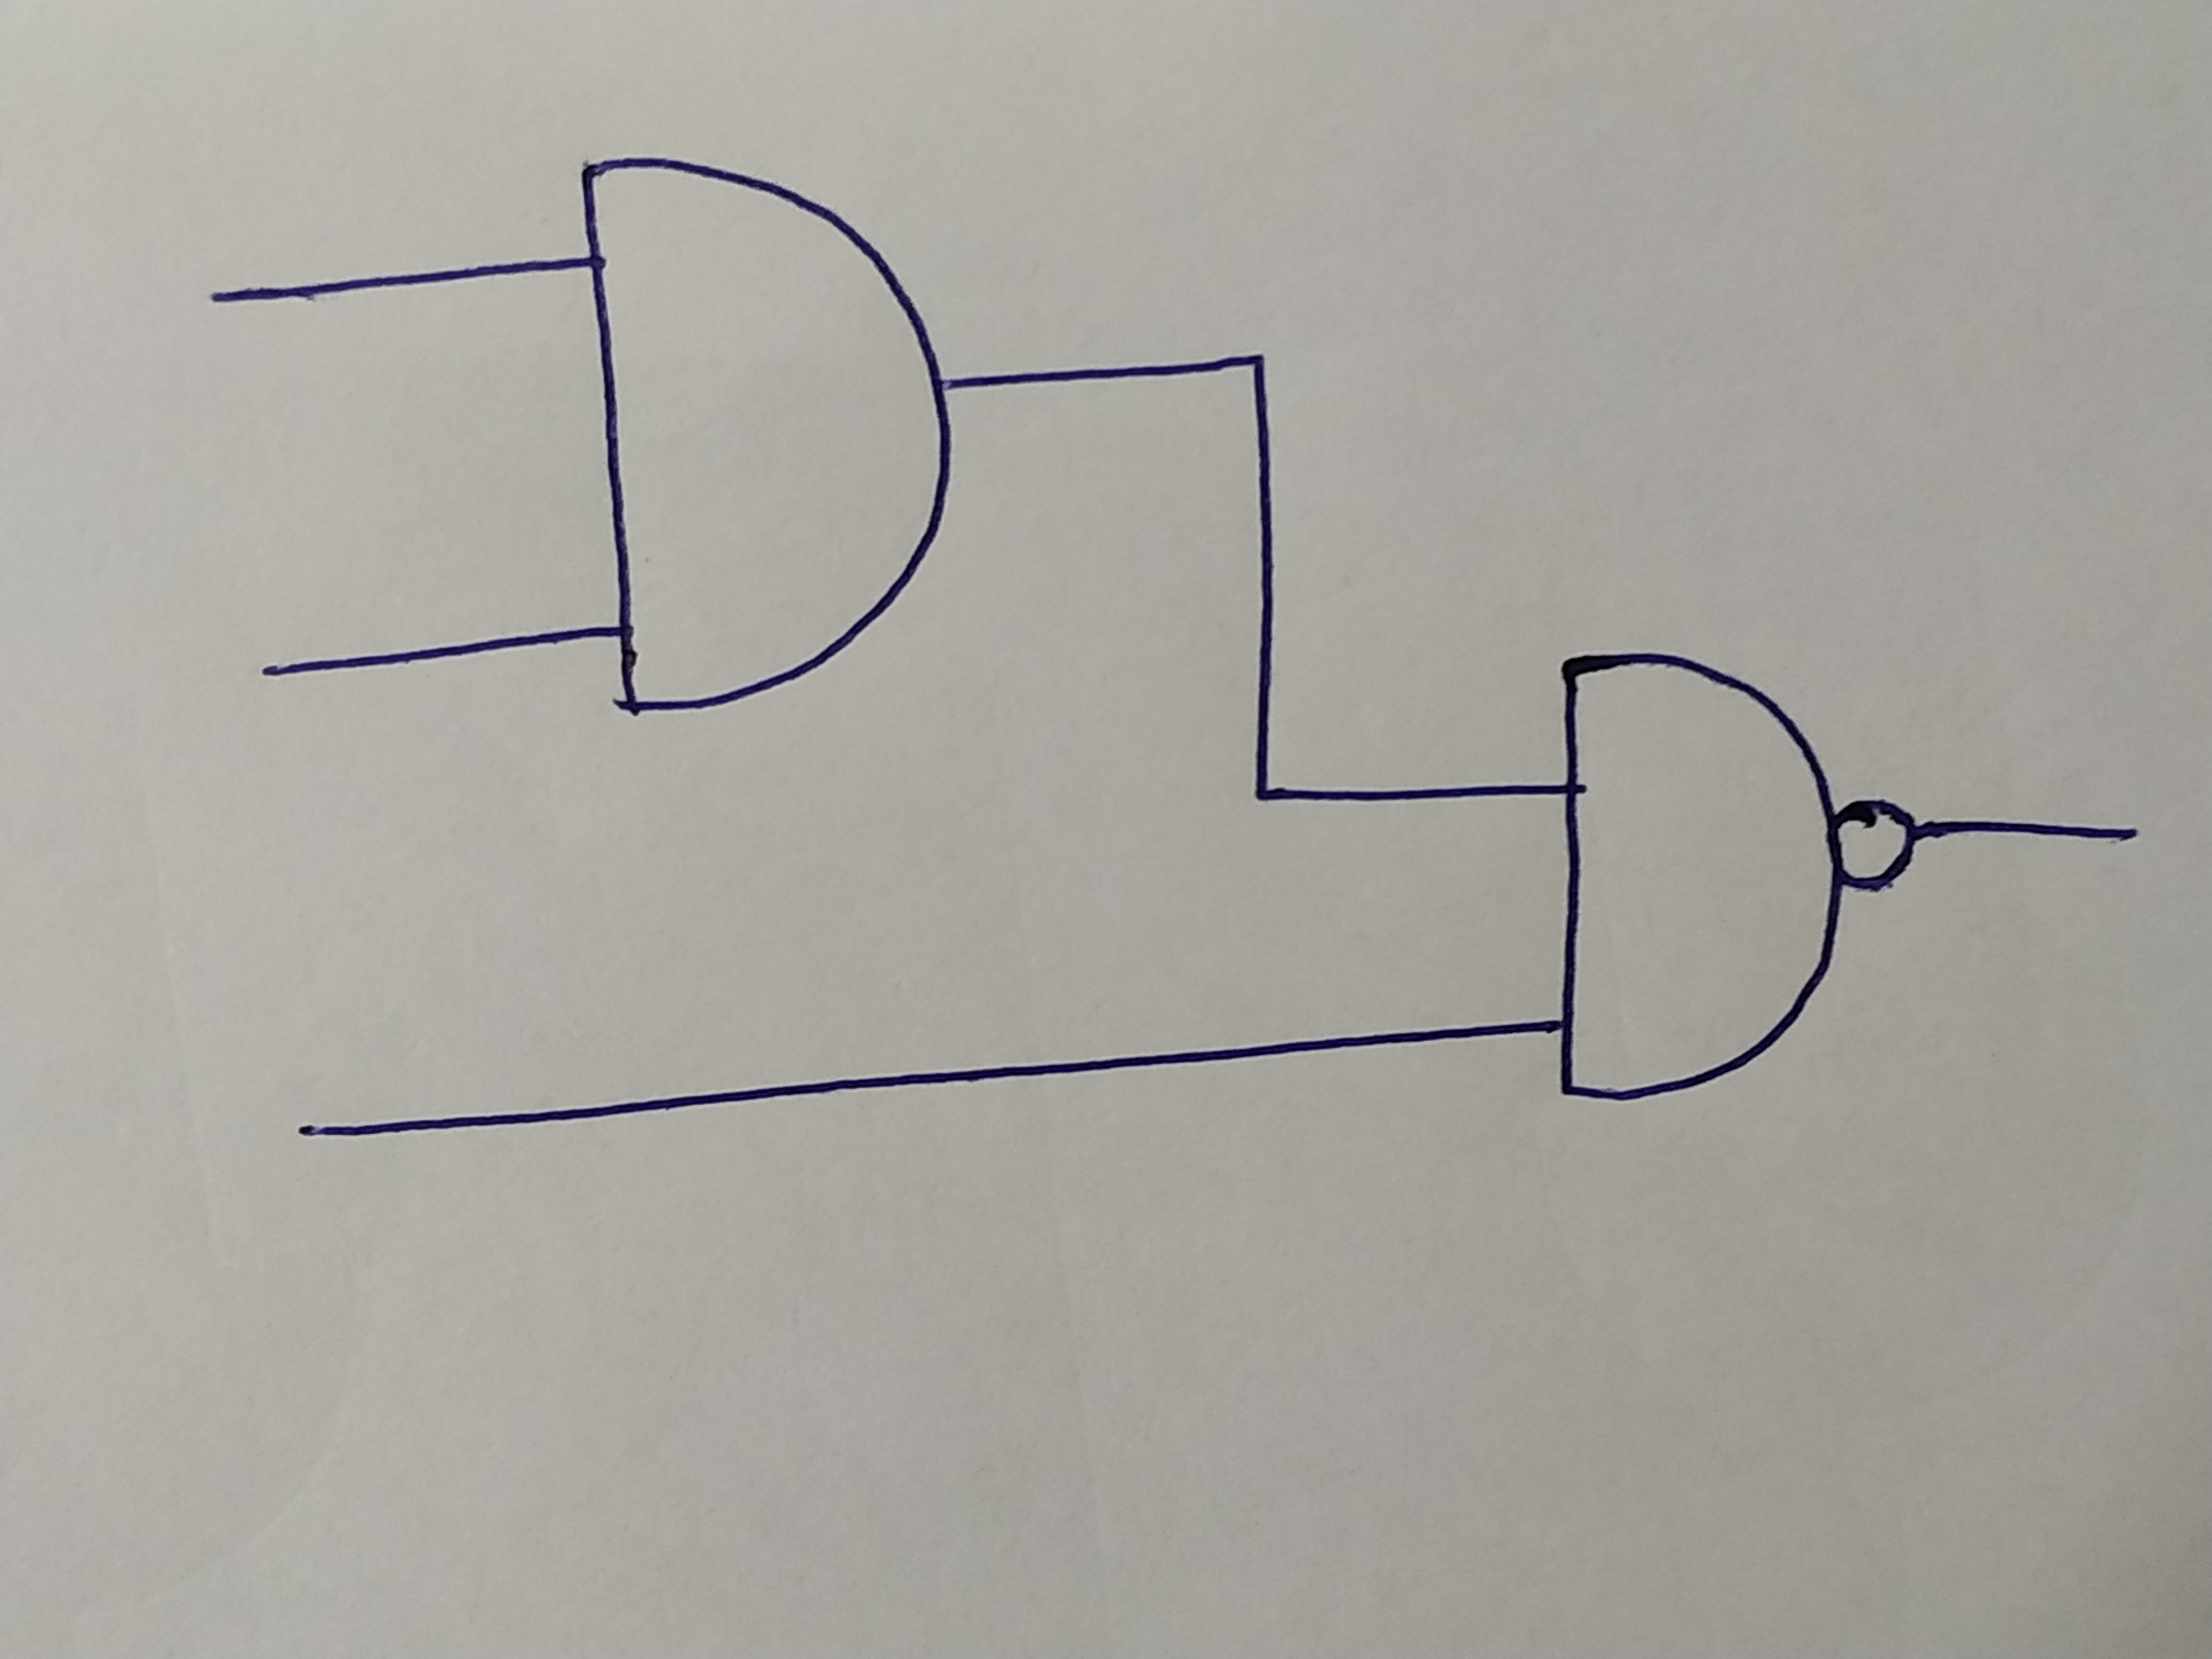and: (582, 159, 944, 709), (1550, 652, 1839, 1100)
not: (1838, 798, 1914, 885)
